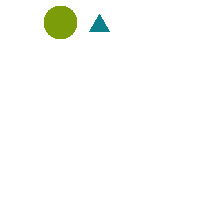circle: (44, 6, 76, 38)
triangle: (89, 14, 109, 31)
